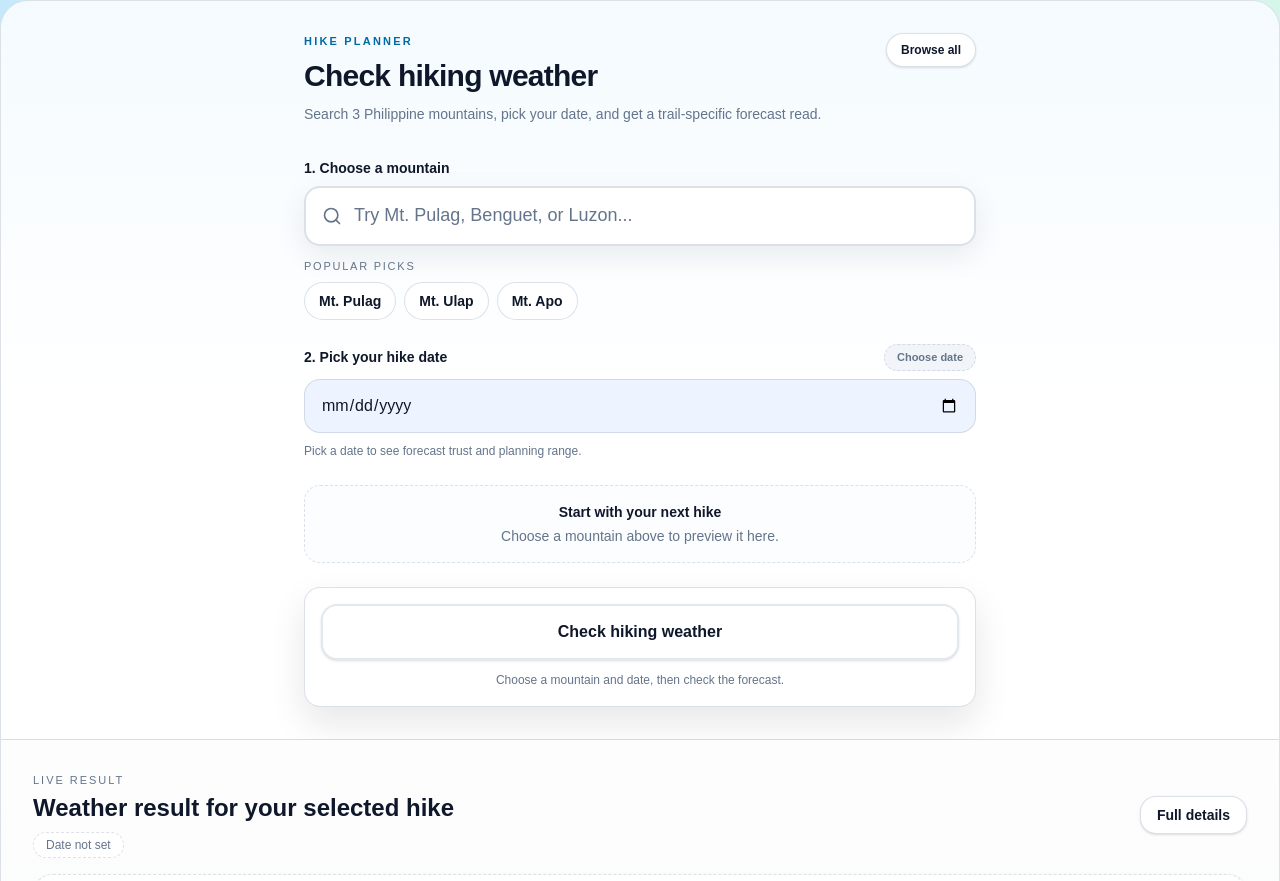
it: HomePlannerClient › normalizes mountain search terms and shows empty states
This screenshot has width=1280, height=881.
Type "mt pulag" into the dropdown named "Search mountains" at (656, 216), box top-left (354, 188), bottom-right (958, 244)
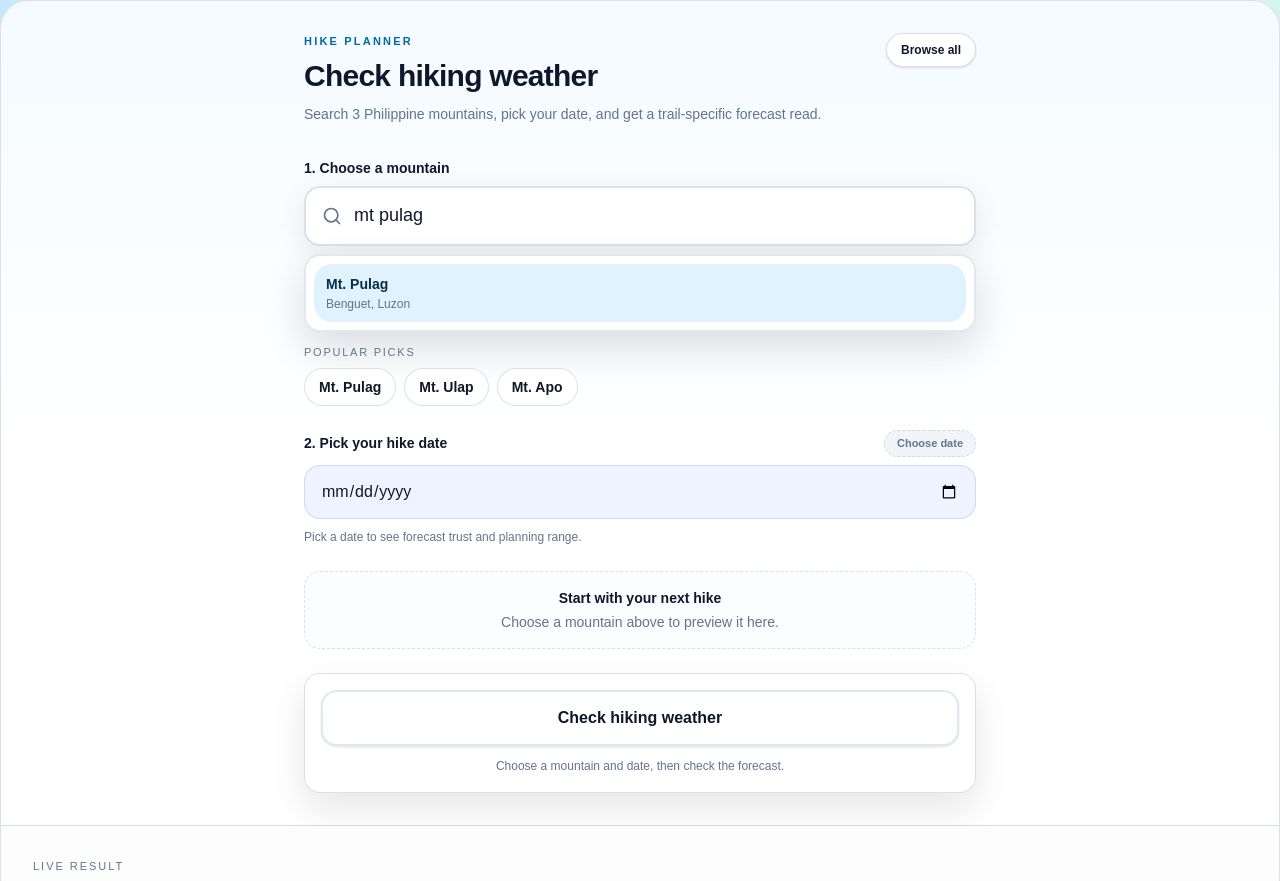
Result: the option "Mt. Pulag Benguet, Luzon" is shown at top-left (314, 264), bottom-right (966, 322)
Replace the text in the dropdown named "Search mountains" with "unknown summit" at (656, 216), box top-left (354, 188), bottom-right (958, 244)
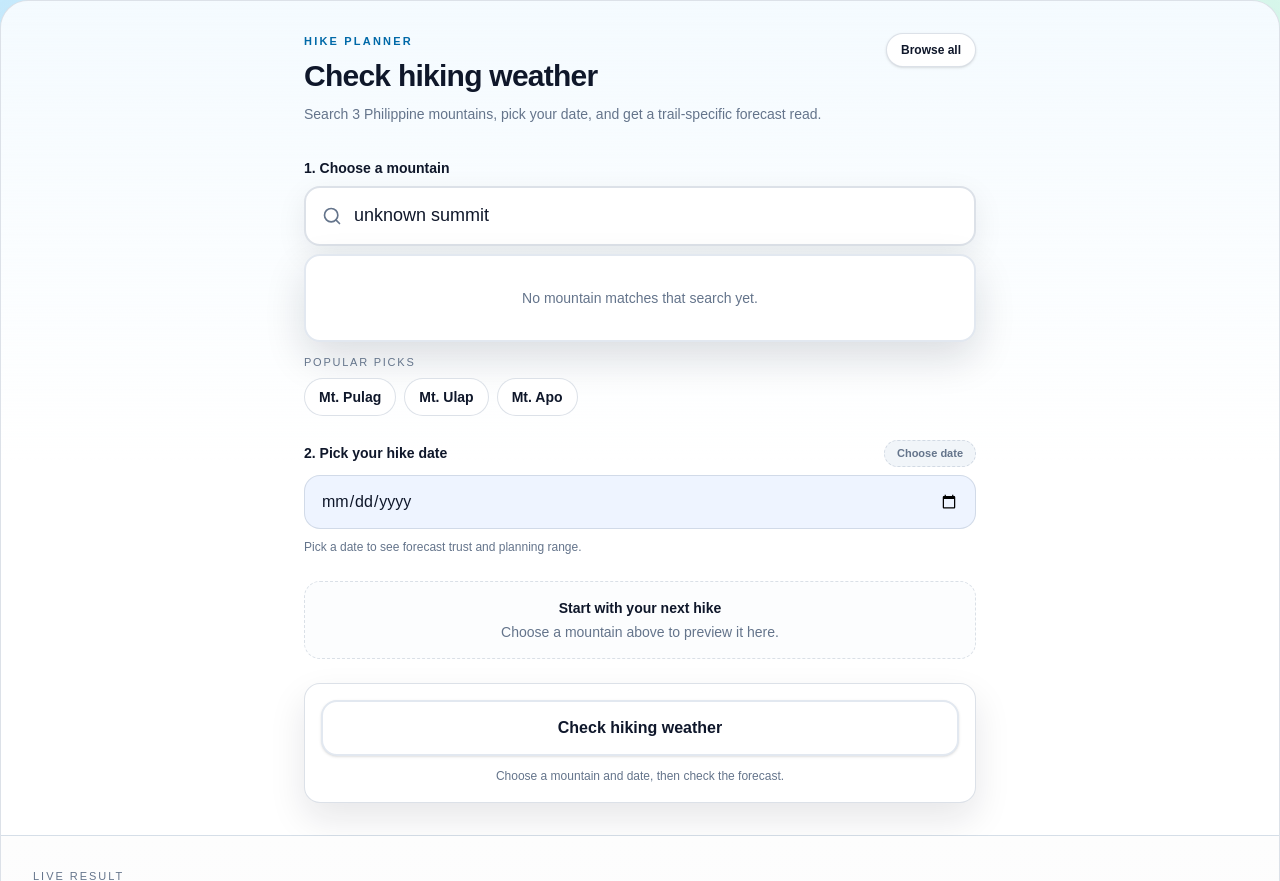
Result: the text "No mountain matches that search yet." is shown at top-left (522, 290), bottom-right (758, 306)
